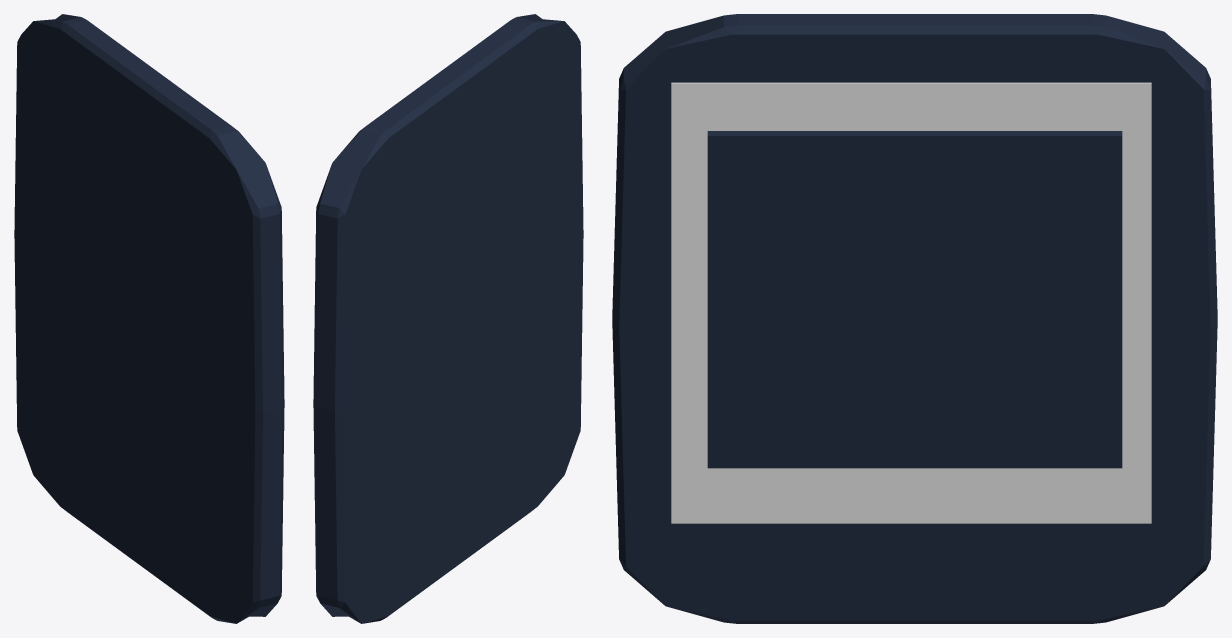
The model's file is tablet.glb.
3 views of the same model, side by side, from view 1: azimuth 30°, elevation 25°; view 2: azimuth 150°, elevation 25°; view 3: azimuth 270°, elevation 25° (orthographic). The views are drawn at different scales.
Visible parts, largest first — view 1: tablet_cuerpo; view 2: tablet_cuerpo; view 3: tablet_cuerpo, face_sprite, pantalla_colores.
Boxes of the visible parts, box(x1,y1,x2,y2) form: tablet_cuerpo: box(14, 14, 284, 623); tablet_cuerpo: box(313, 14, 583, 623); tablet_cuerpo: box(612, 14, 1217, 623); face_sprite: box(707, 131, 1122, 468); pantalla_colores: box(671, 82, 1151, 523).
Size of the model in its own units: 0.791 by 9.6 by 8.8.
